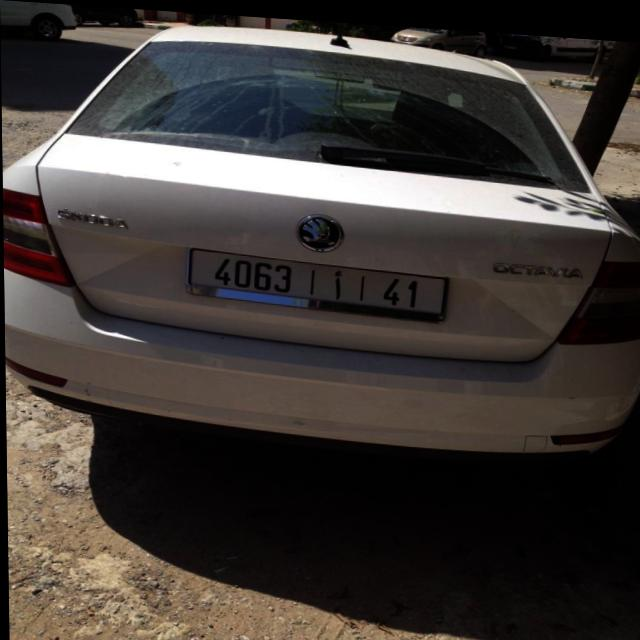License-Plate: (186, 246, 446, 316)
